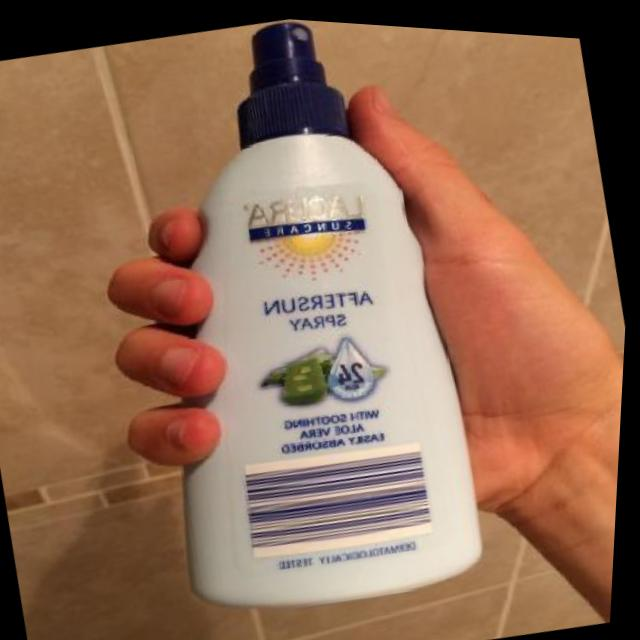plastic: (73, 7, 521, 640)
